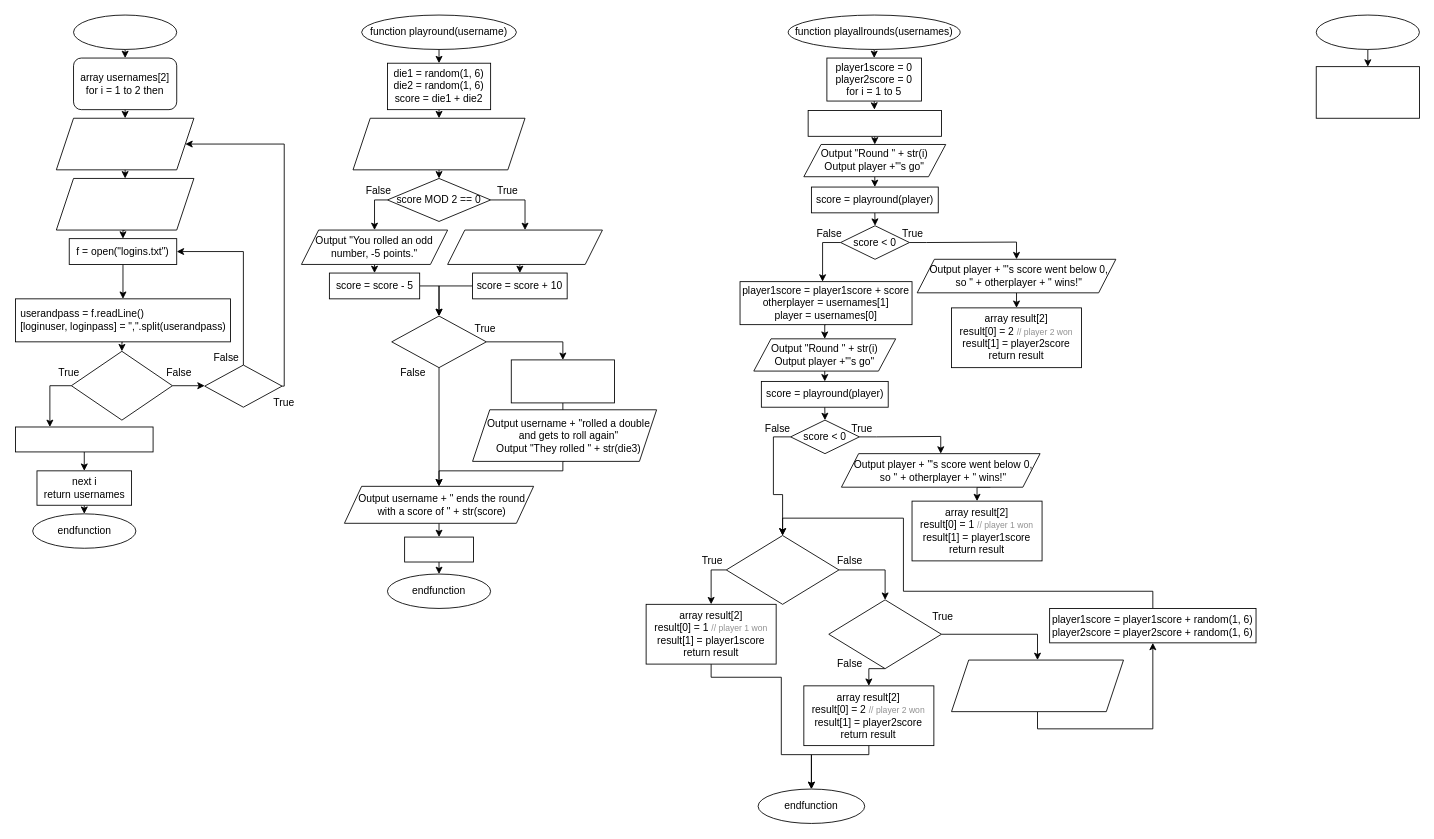
Some shapes in this 1434 by 839 pixel diagram are drawn without their labels. The shapes that lost their labels are listed below. From the top down, each one's box as (x1, y1, x2, y2) in pixels, then its label:
(73, 14, 177, 49): function login()
(1315, 14, 1419, 49): Start
(807, 110, 941, 136): otherplayer = usernames[1] player = usernames[0]
(55, 117, 194, 170): username = Input "Player "+i+" - Enter your username"
(352, 117, 525, 170): Output username + " rolled a " + str(die1) + " and a " + str(die2)
(55, 178, 194, 230): password = Input "Player "+i+" - Enter your password"
(447, 229, 602, 264): Output "You rolled an even number, +10 points"
(391, 315, 486, 368): die1 == die2
(71, 350, 172, 420): passsword == loginpass
(204, 364, 282, 407): f.endOfFile()
(510, 359, 614, 403): die3 = random(1,6) score = score + die3 score = score - 10
(15, 426, 153, 452): usernames[i - 1] = loginuser
(404, 536, 473, 562): return score
(725, 535, 839, 604): player1score > player2score
(828, 599, 941, 669): playerscore1 == playerscore2
(951, 659, 1124, 712): Output "Tied, rolling extra dice to decide the winner"
